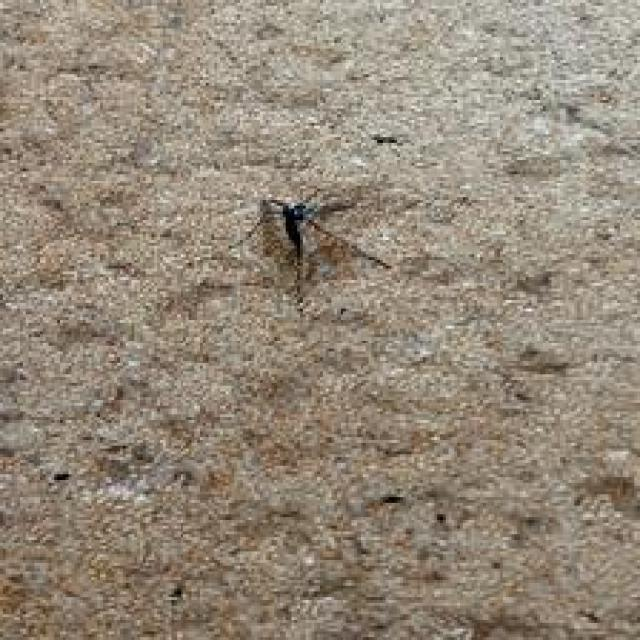Aedes albopictus: (237, 190, 392, 276)
